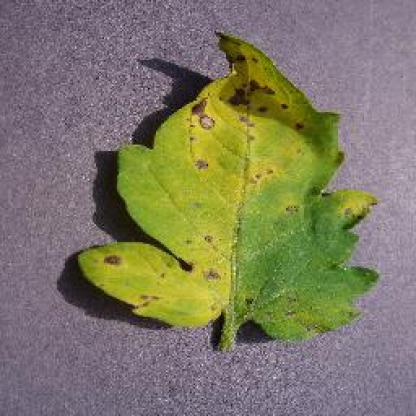bad leaf: (80, 34, 386, 366)
